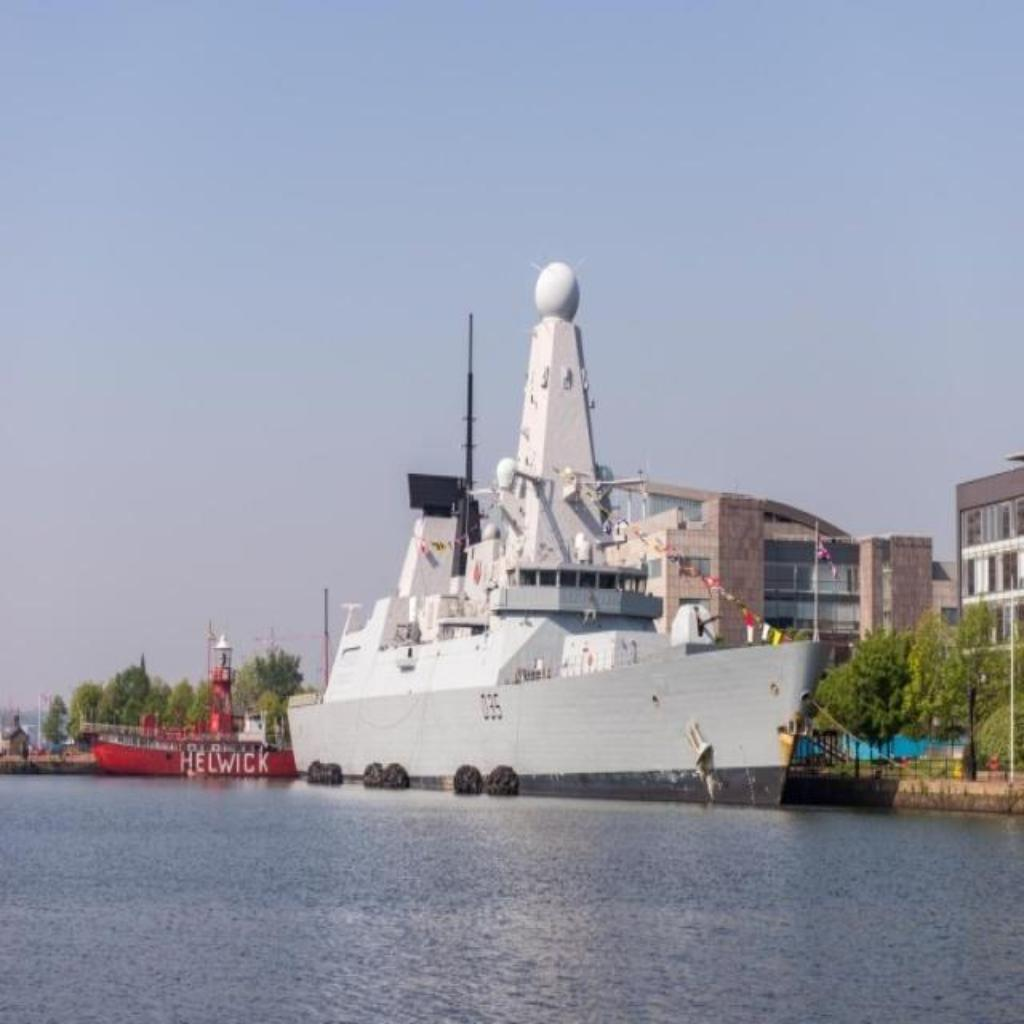Warship: (267, 253, 839, 819)
